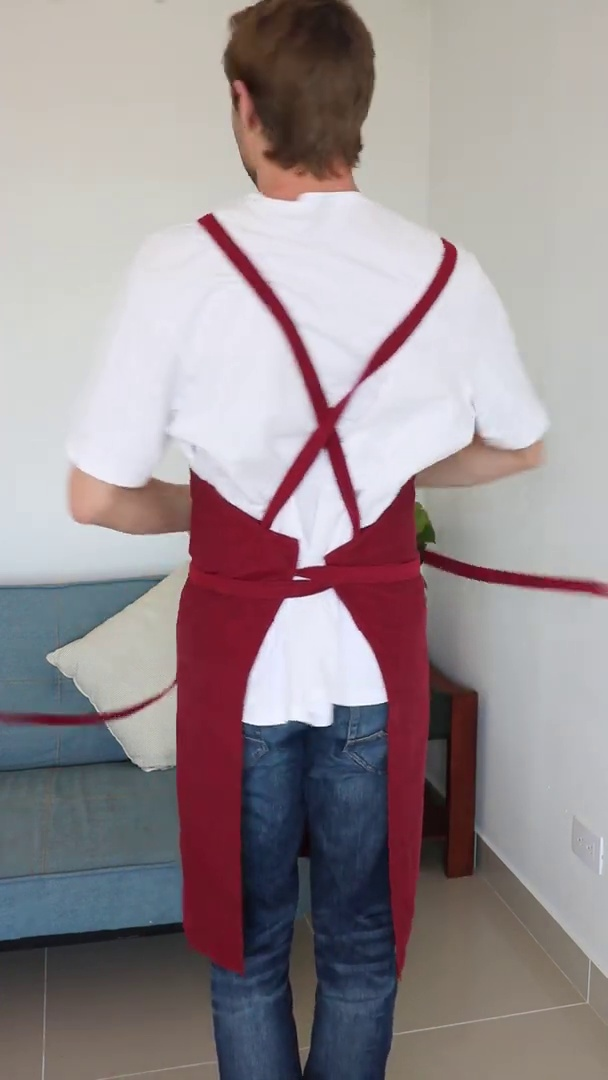Apron: (185, 210, 447, 690)
No_Hairnet: (225, 0, 376, 180)
